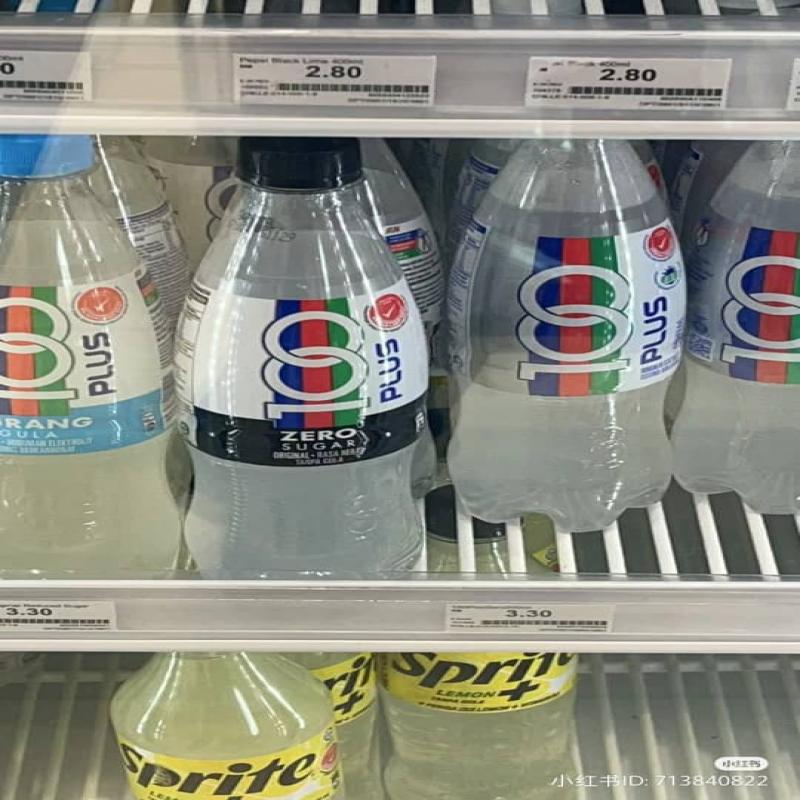botella: (190, 142, 433, 588), (434, 141, 684, 527), (7, 126, 187, 584), (686, 142, 800, 524), (104, 654, 343, 800), (375, 648, 595, 800)
